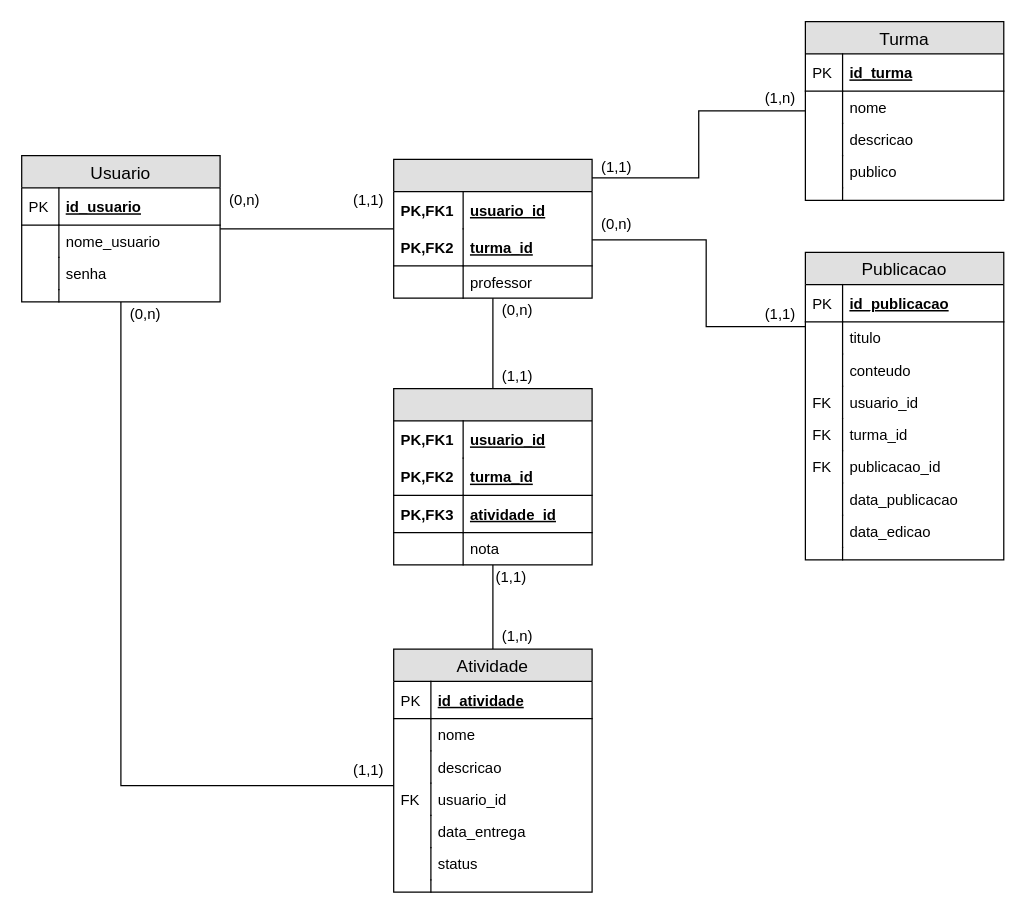
Some shapes in this 1025 by 914 pixel diagram are drawn without their labels. The box of each missing label's shape, as (x1, y1, x2, y2) in pixels:
Atividade_Participacao: (392, 388, 592, 565)
Participacao: (392, 158, 592, 298)
